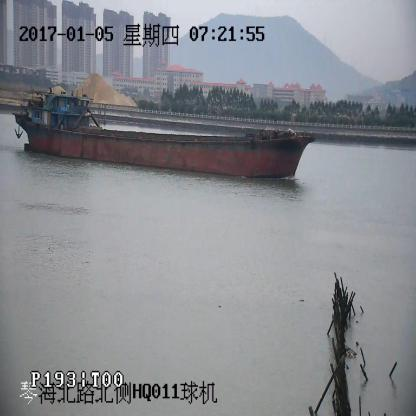Bulk Carrier: (14, 90, 315, 177)
